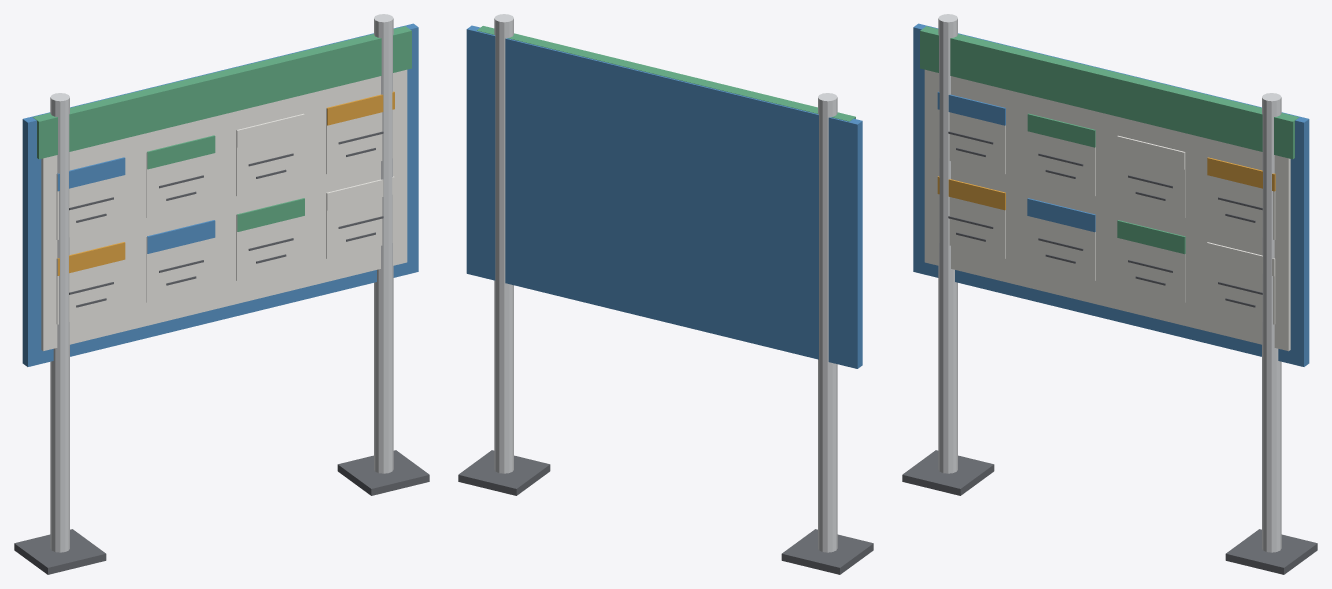
The model's file is boarding-kennels-and-cattery-boarding-kennels-and-catt-429dc0ad__35570.glb.
The picture shows the model from 3 angles, left to right: view 1: azimuth 30°, elevation 25°; view 2: azimuth 150°, elevation 25°; view 3: azimuth 330°, elevation 25°; orthographic projection.
Visible parts, largest first — view 1: boarding-kennels-and-cattery-adoption-noticeboard; view 2: boarding-kennels-and-cattery-adoption-noticeboard; view 3: boarding-kennels-and-cattery-adoption-noticeboard.
Part boxes in pixels (x1=…): boarding-kennels-and-cattery-adoption-noticeboard: x1=14, y1=14, x2=429, y2=574; boarding-kennels-and-cattery-adoption-noticeboard: x1=458, y1=14, x2=873, y2=574; boarding-kennels-and-cattery-adoption-noticeboard: x1=902, y1=14, x2=1317, y2=574.
Bounding box in the file's own units: 1.74 × 1.95 × 0.26.
